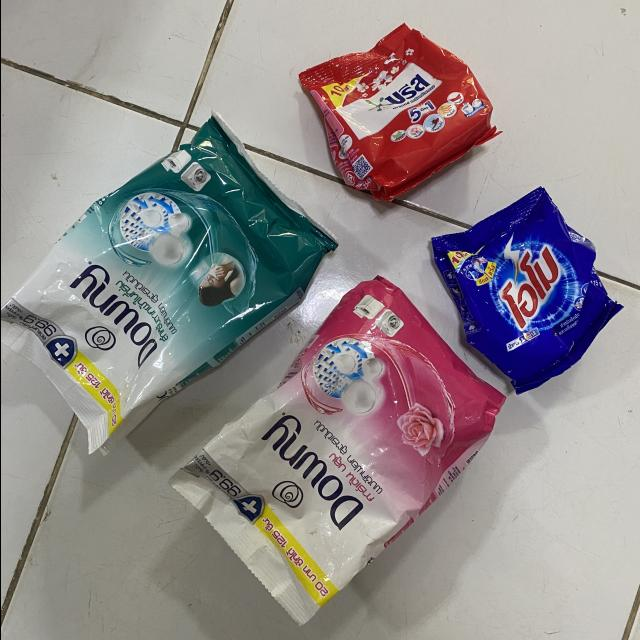plastik: (169, 276, 504, 624), (0, 116, 337, 453), (430, 187, 621, 394), (298, 24, 498, 200)
